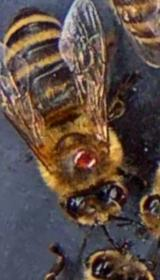varroa_mite: (66, 138, 106, 176)
